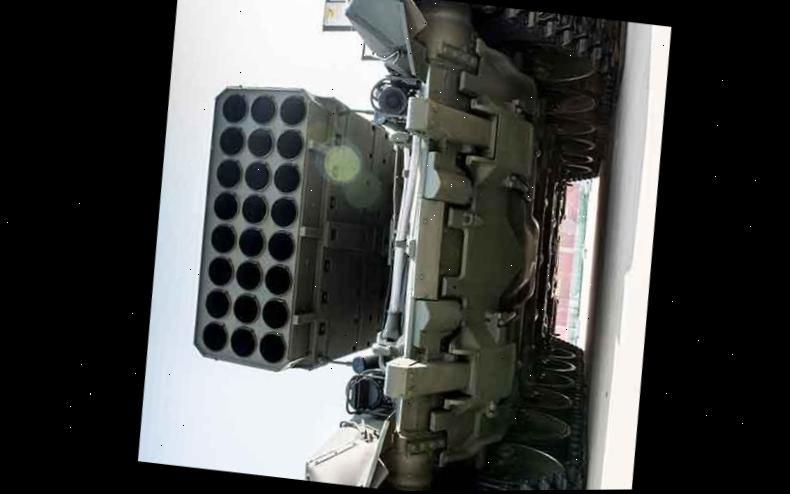rszo: (134, 0, 642, 493)
